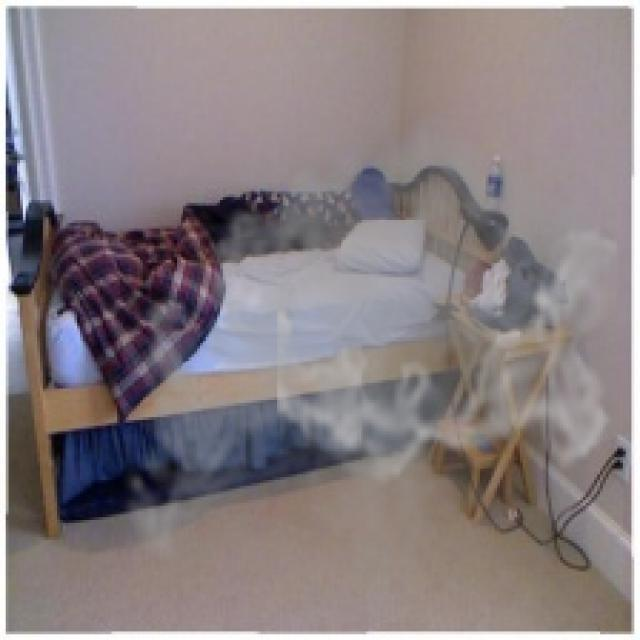Smoke: (108, 91, 623, 623)
